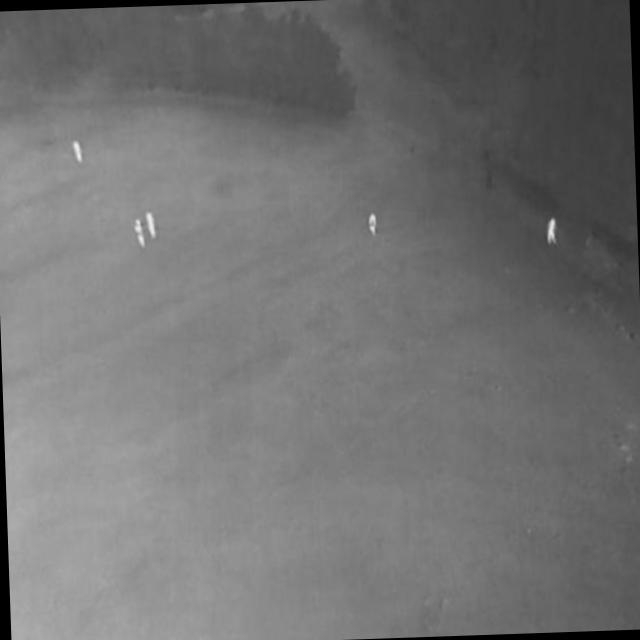person: (133, 219, 148, 249), (545, 218, 557, 247), (145, 212, 157, 240), (71, 138, 83, 164), (368, 210, 378, 236)
